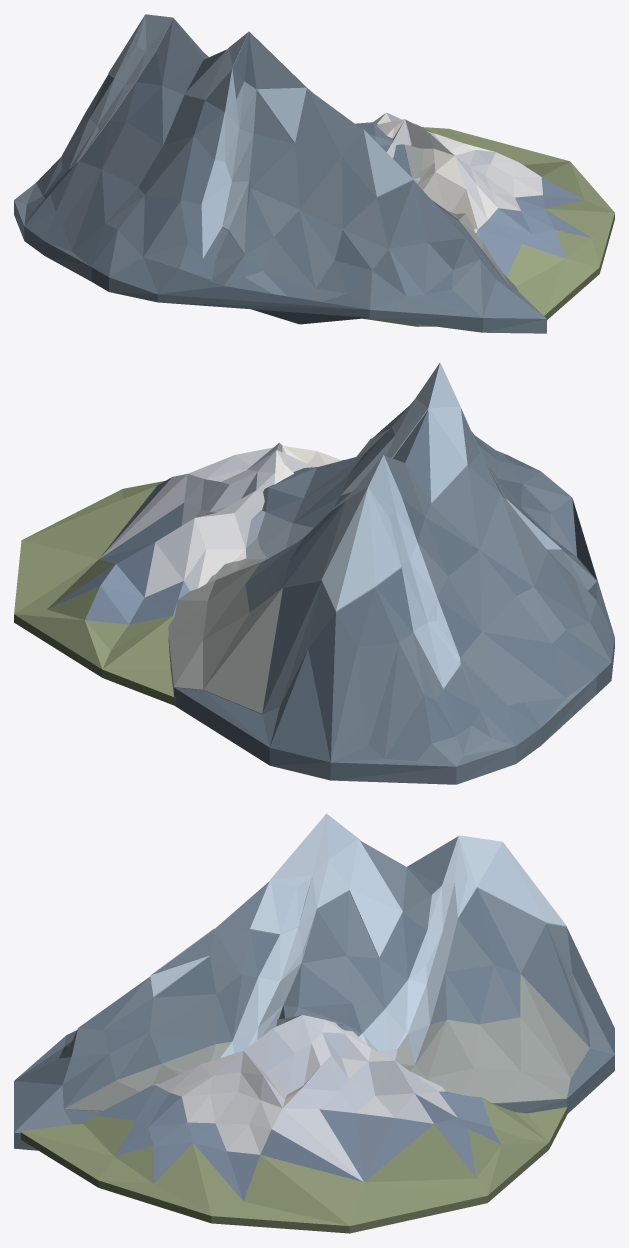
File: massif_west_spur_rim53.glb
3 views of the same model, one above another, from view 1: azimuth 30°, elevation 25°; view 2: azimuth 150°, elevation 25°; view 3: azimuth 270°, elevation 25° (orthographic). The views are drawn at different scales.
Parts seen in each view (by area): view 1: ridge_shoulders, rock_body, snow_cap, snow_gully, shore_rock_apron; view 2: ridge_shoulders, rock_body, snow_cap, shore_rock_apron, snow_gully; view 3: rock_body, ridge_shoulders, snow_cap, shore_rock_apron, snow_gully.
Boxes of the visible parts, x1,y1,x2,y2 form: ridge_shoulders: (14,18,546,333); rock_body: (363,112,614,326); snow_cap: (108,14,415,197); snow_gully: (69,55,445,258); shore_rock_apron: (404,144,510,288); ridge_shoulders: (168,406,614,784); rock_body: (14,443,343,705); snow_cap: (321,362,467,611); shore_rock_apron: (168,558,282,714); snow_gully: (238,408,562,689); rock_body: (20,1015,567,1233); ridge_shoulders: (14,836,614,1150); snow_cap: (150,813,566,997); shore_rock_apron: (64,974,589,1111); snow_gully: (220,883,457,1064).
Bounding box in the file's own units: 742 × 350 × 750.
